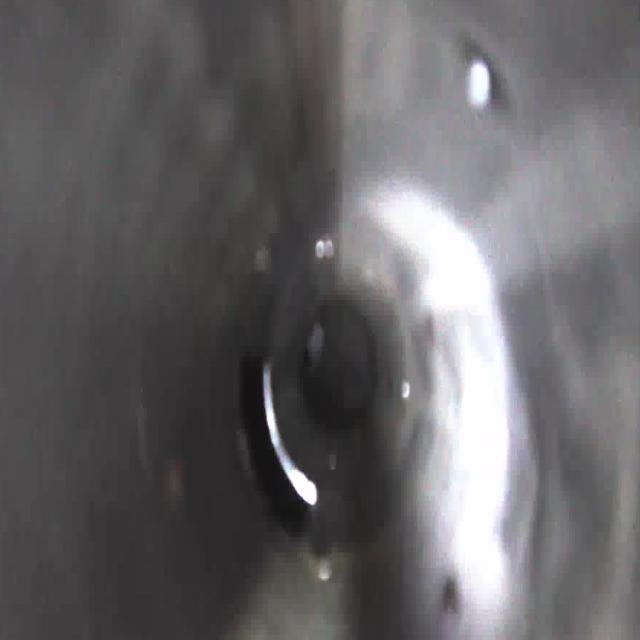hole: (233, 342, 324, 550)
